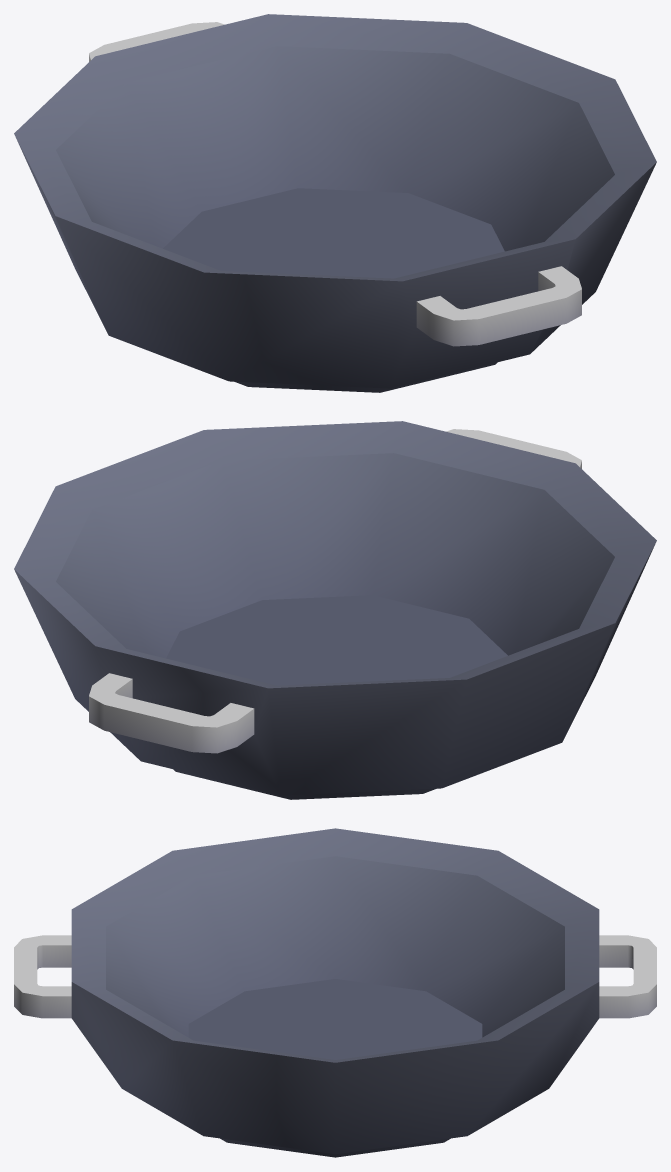
Rendered from pan.glb.
3 renders of one model, top to bottom at view 1: azimuth 30°, elevation 25°; view 2: azimuth 150°, elevation 25°; view 3: azimuth 270°, elevation 25°, orthographic. The views are drawn at different scales.
Parts seen in each view (by area): view 1: pan; view 2: pan; view 3: pan.
Part boxes in pixels (left/top/right/bottom): pan: left=14, top=14, right=656, bottom=392; pan: left=14, top=421, right=656, bottom=799; pan: left=14, top=828, right=656, bottom=1157.
Bounding box in the file's own units: 0.6574 × 0.1753 × 0.7621.
